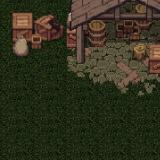Hide: (115, 50, 160, 111)
Obstacle: (67, 0, 160, 92), (1, 1, 67, 67)
